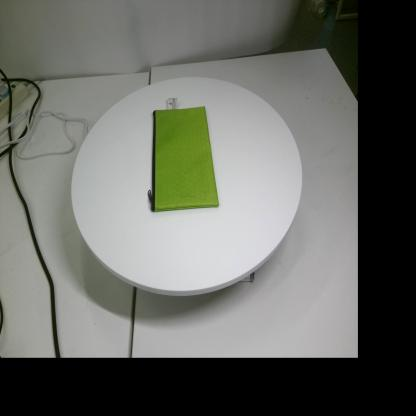Stationery: (148, 98, 219, 212)
